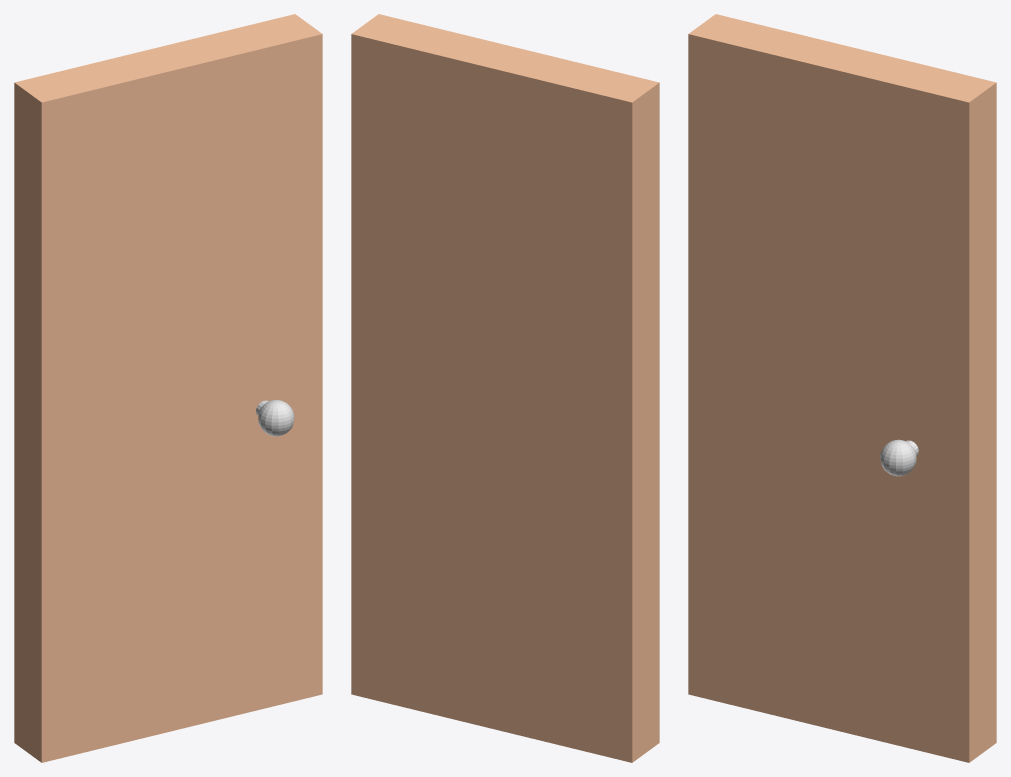
File: door.glb
The picture shows the model from 3 angles, left to right: view 1: azimuth 30°, elevation 25°; view 2: azimuth 150°, elevation 25°; view 3: azimuth 330°, elevation 25°; orthographic projection.
Visible parts, largest first — view 1: Cube, Sphere; view 2: Cube; view 3: Cube, Sphere.
Boxes of the visible parts, <box> form: Cube: <box>14,14,322,762</box>; Sphere: <box>258,400,294,436</box>; Cube: <box>351,14,659,762</box>; Cube: <box>688,14,996,762</box>; Sphere: <box>880,439,916,476</box>.
Bounding box in the file's own units: 0.8872 × 1.99 × 0.2673.
